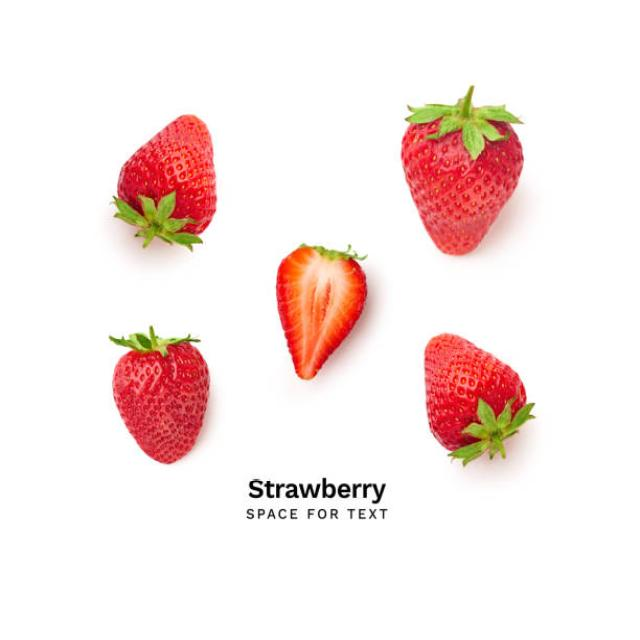Healthy Fruit: (402, 118, 525, 257), (424, 330, 527, 449), (119, 113, 217, 238), (114, 344, 209, 463)
